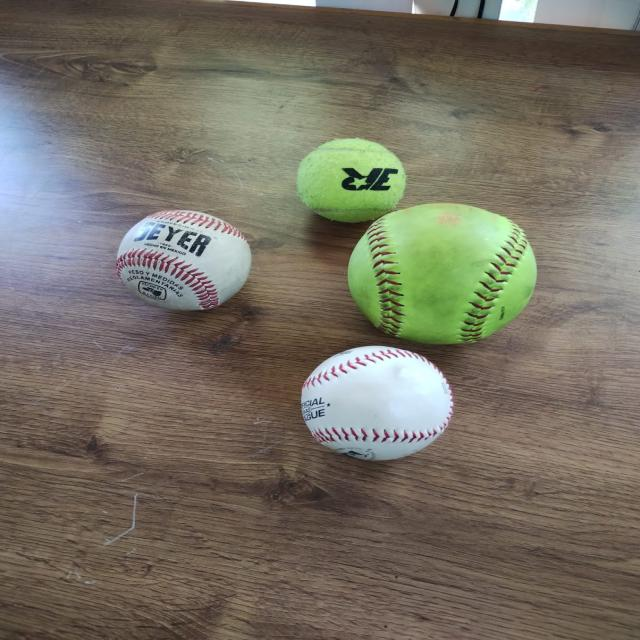beisbol ball: (298, 345, 456, 460), (110, 205, 255, 314)
softball ball: (344, 202, 540, 349)
tenis ball: (294, 137, 410, 223)
